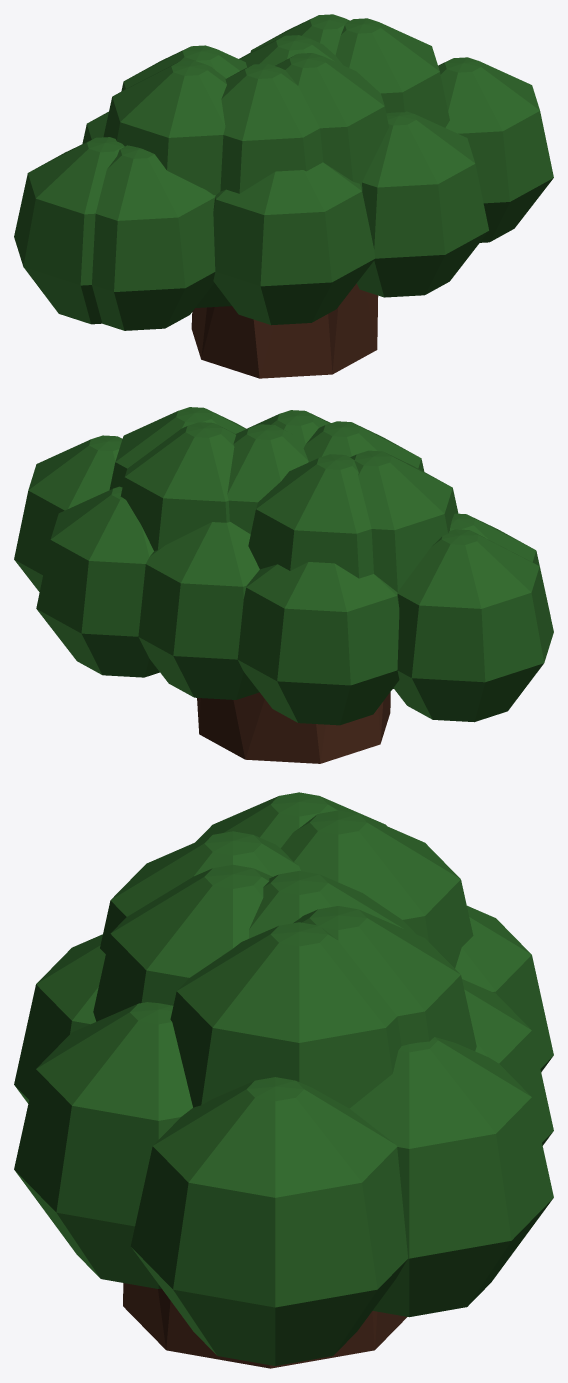
File: bush122.fbx
The picture shows the model from 3 angles, top to bottom: view 1: azimuth 30°, elevation 25°; view 2: azimuth 150°, elevation 25°; view 3: azimuth 270°, elevation 25°; orthographic projection. The views are drawn at different scales.
Visible parts, largest first — view 1: Sphere.015, Cylinder; view 2: Sphere.015, Cylinder; view 3: Sphere.015, Cylinder.
Part boxes in pixels (<box>): Sphere.015: <box>14,14,553,330</box>; Cylinder: <box>191,283,378,378</box>; Sphere.015: <box>14,407,553,725</box>; Cylinder: <box>197,692,390,763</box>; Sphere.015: <box>14,792,553,1365</box>; Cylinder: <box>123,1283,406,1368</box>.
Bounding box in the file's own units: 617 × 329 × 366.
